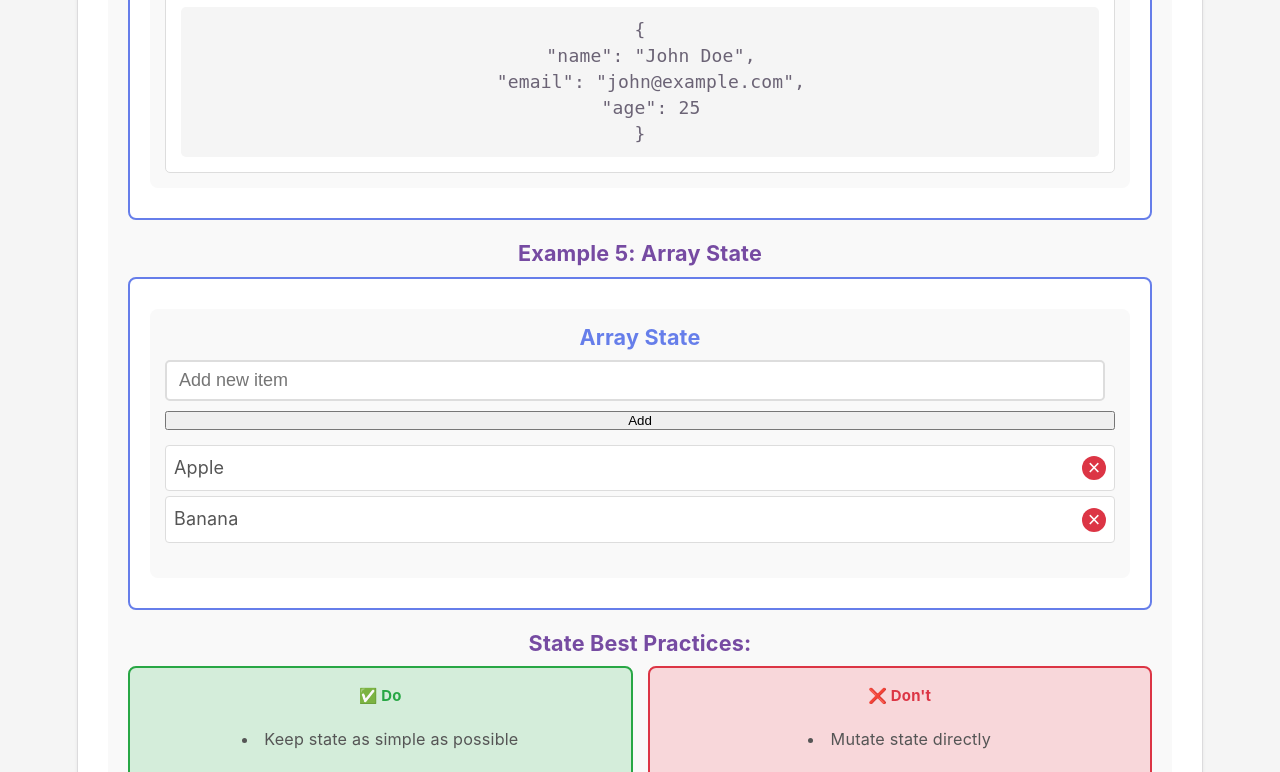
StateManagementDemo › adds items to array state
This screenshot has width=1280, height=772.
(page scrolled)
Expected: the list item "Apple" is shown, [174,457,224,478]
Expected: the list item "Banana" is shown, [174,508,238,530]
Note: Add a new item
Type "Orange" into the field with placeholder "Add new item" at (635, 380), box [165,360,1105,401]
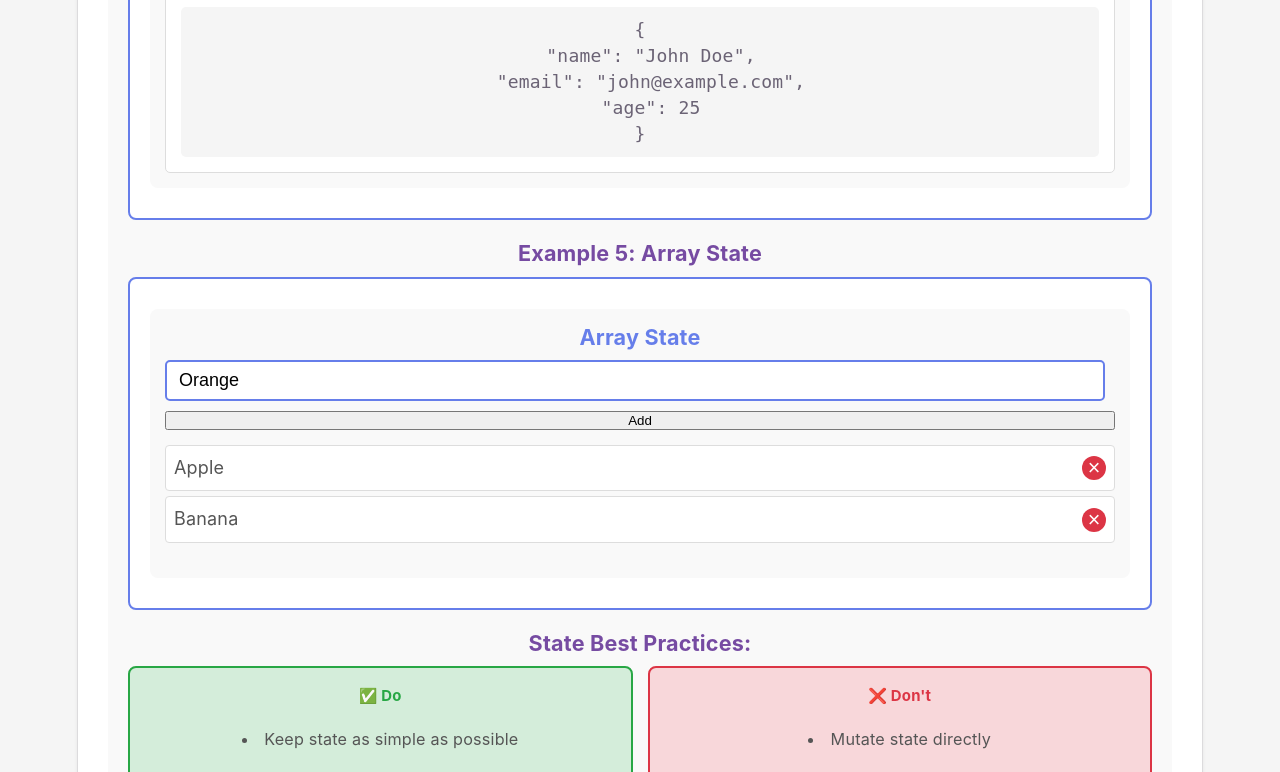
Click the button "Add" at (640, 420), box [165,411,1115,430]
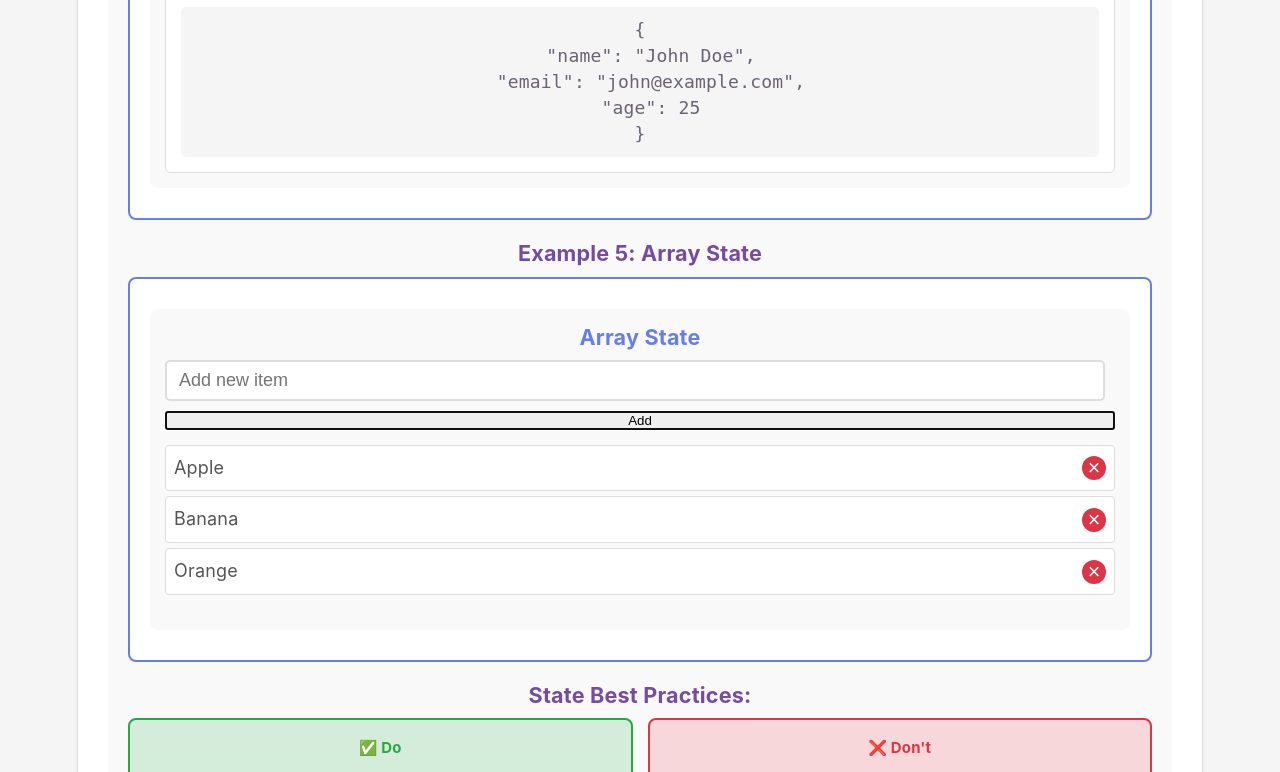
Now the list item "Orange" is shown, box [174,560,238,581]
Now the field with placeholder "Add new item" is empty, box [165,360,1105,401]
